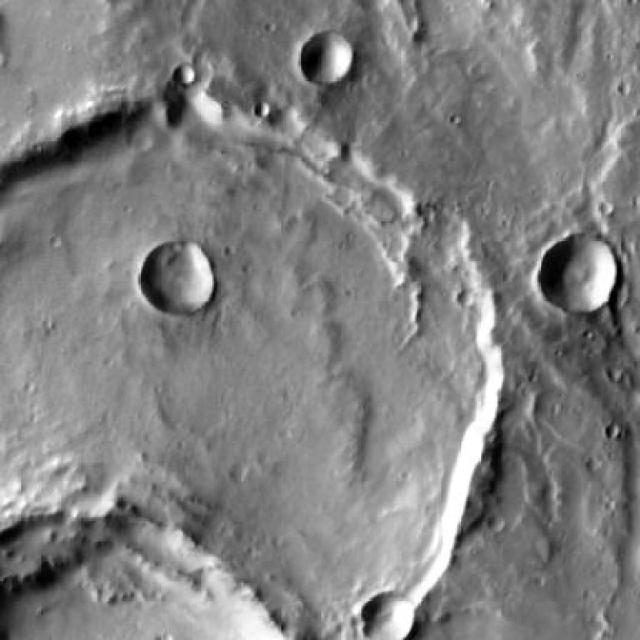crater: (0, 98, 503, 640), (538, 232, 619, 312), (149, 245, 223, 318), (298, 34, 349, 84), (367, 593, 419, 639), (177, 64, 197, 84), (488, 513, 504, 529)
